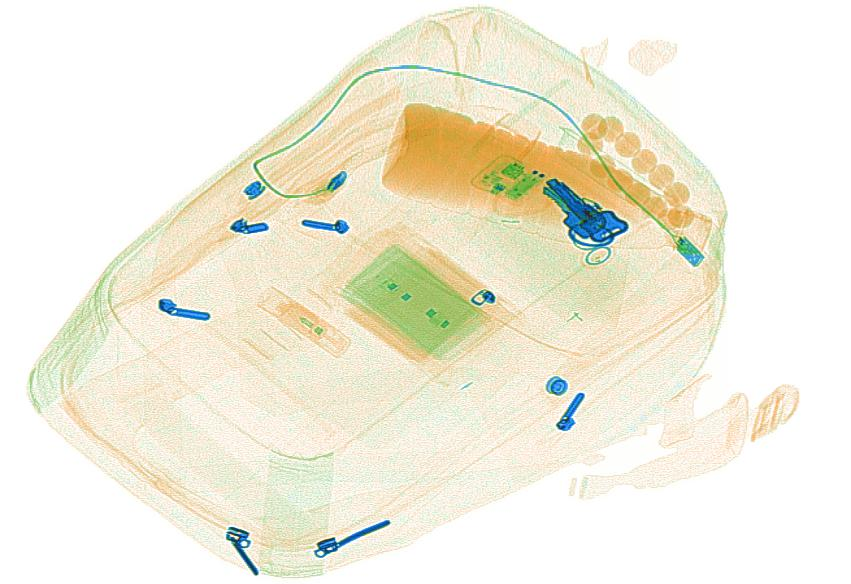plasticBottleWithaNozzle: (255, 284, 352, 360)
